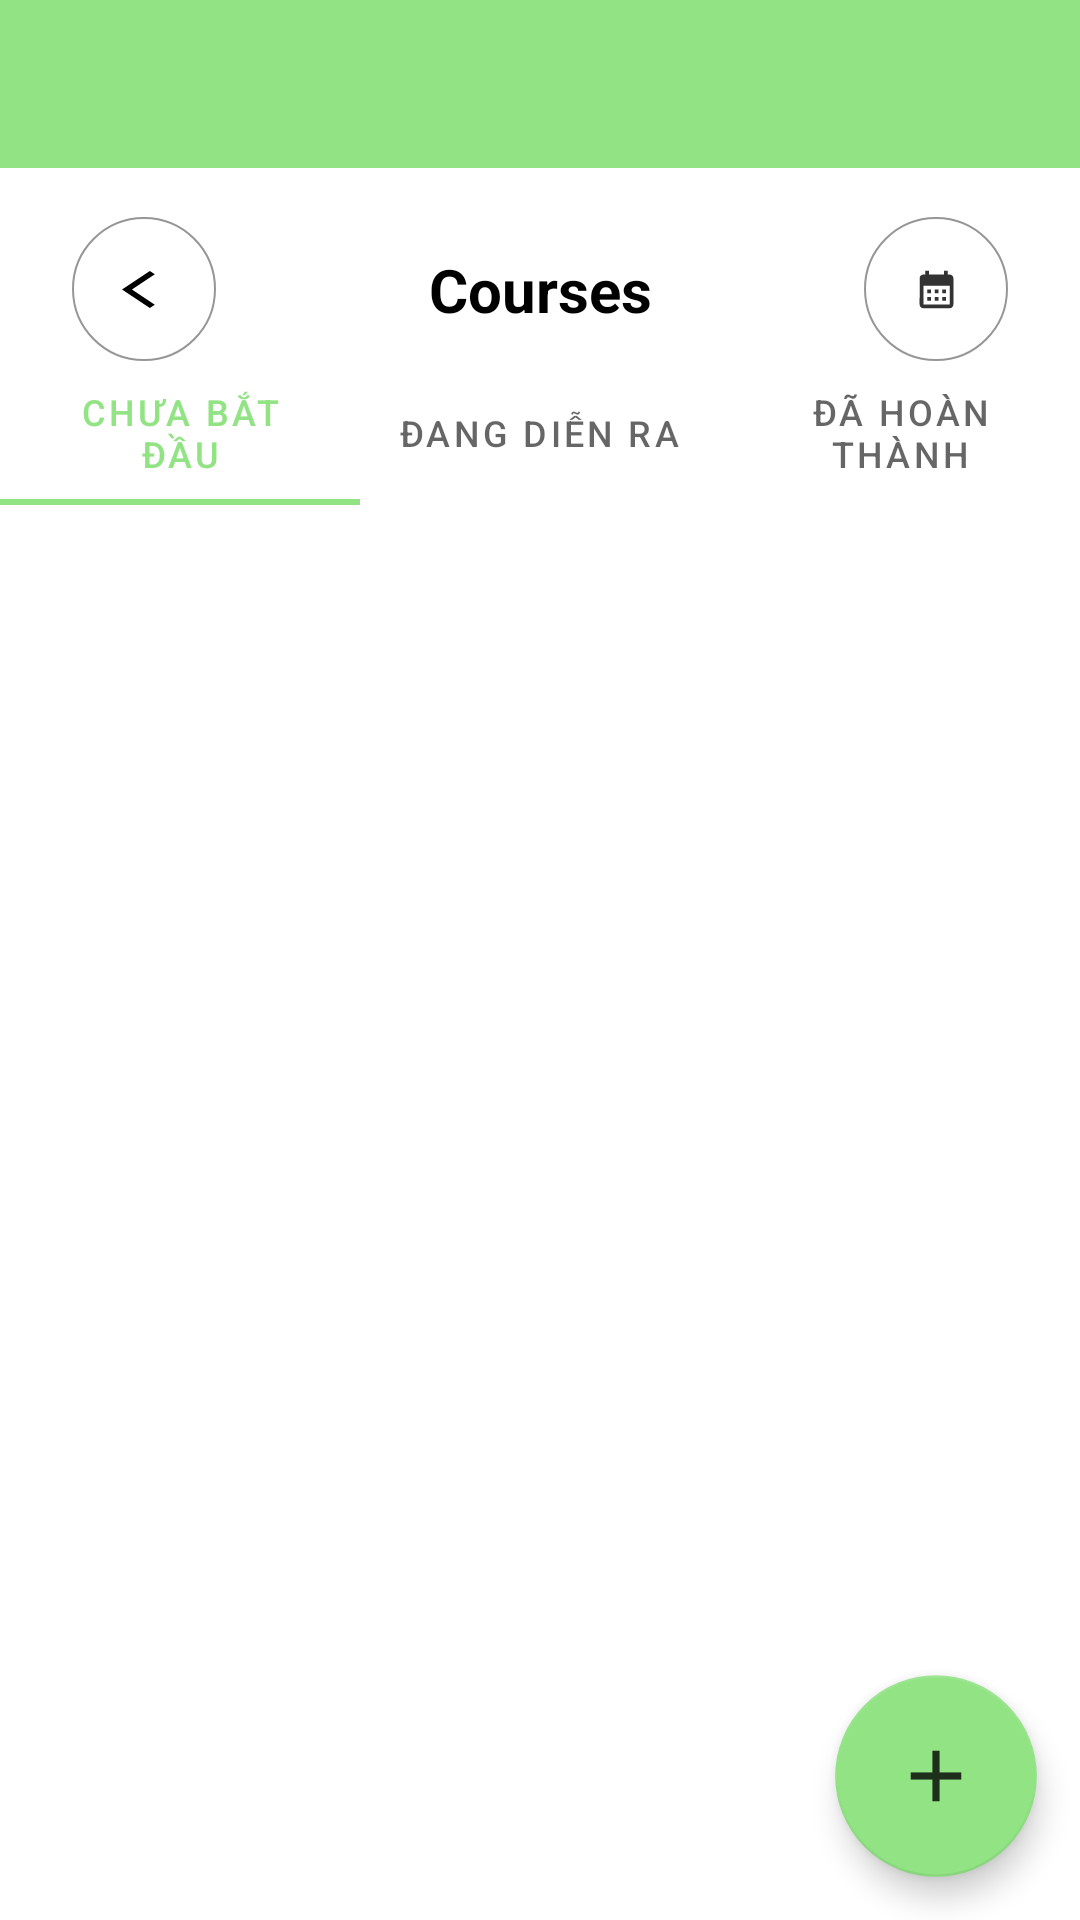

Locate icon controls on the screen. Image size 1080×1920, boxes as (left=x1, top=y1, right=x2, bottom=y2).
back1: (left=72, top=217, right=216, bottom=361)
calendar month: (left=864, top=217, right=1008, bottom=361)
